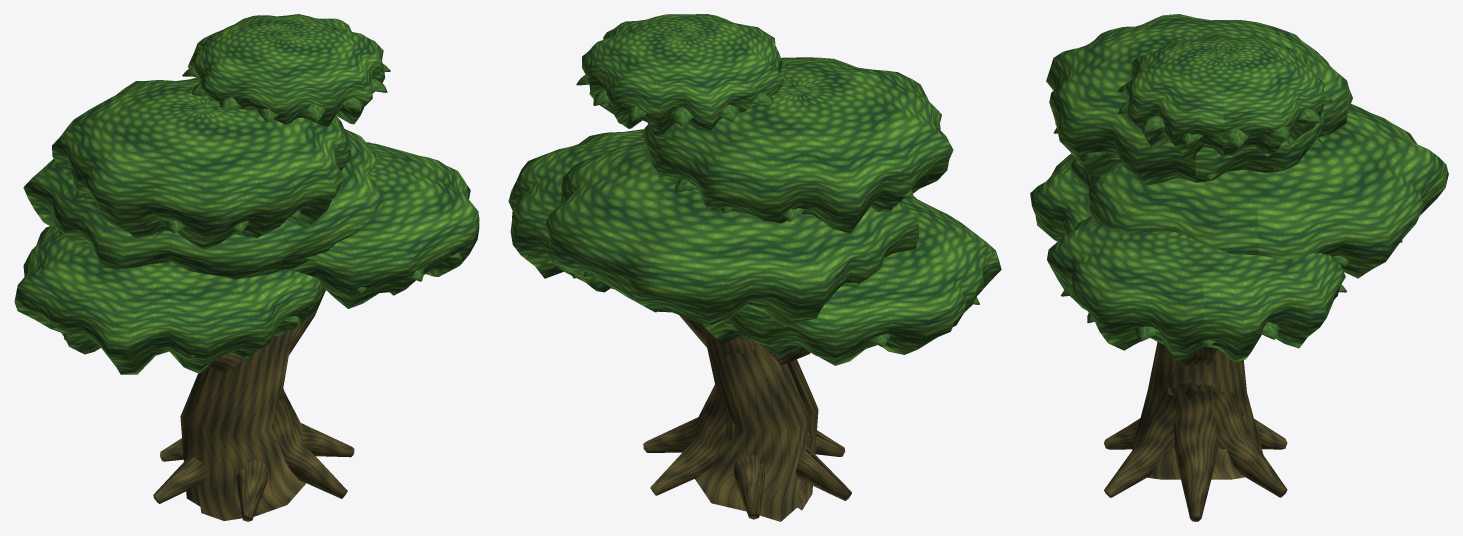
Rendered from elder-canopy.glb.
The picture shows the model from 3 angles, left to right: view 1: azimuth 30°, elevation 25°; view 2: azimuth 150°, elevation 25°; view 3: azimuth 270°, elevation 25°; orthographic projection. The views are drawn at different scales.
Visible parts, largest first — view 1: elder-canopy_leaf, elder-canopy_bark; view 2: elder-canopy_leaf, elder-canopy_bark; view 3: elder-canopy_leaf, elder-canopy_bark.
Boxes of the visible parts, x1,y1,x2,y2 form: elder-canopy_leaf: [14, 14, 479, 374]; elder-canopy_bark: [153, 289, 354, 521]; elder-canopy_leaf: [508, 14, 1001, 365]; elder-canopy_bark: [643, 315, 851, 521]; elder-canopy_leaf: [1030, 14, 1448, 362]; elder-canopy_bark: [1104, 342, 1287, 521].
Size of the model in its own units: 3.32 by 3.28 by 2.69.
Materials: 2 (2 with a texture image).
